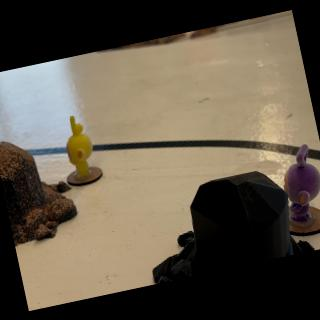teletubby: (284, 144, 320, 221), (66, 115, 92, 176)
